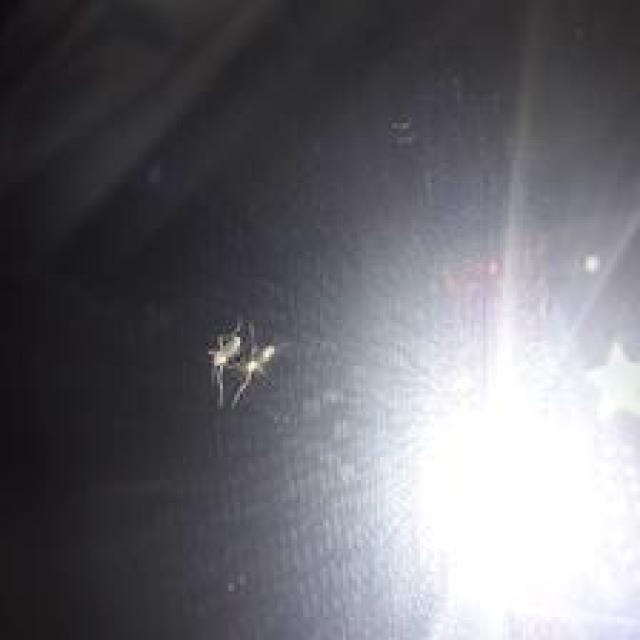Culex: (206, 319, 277, 410)
